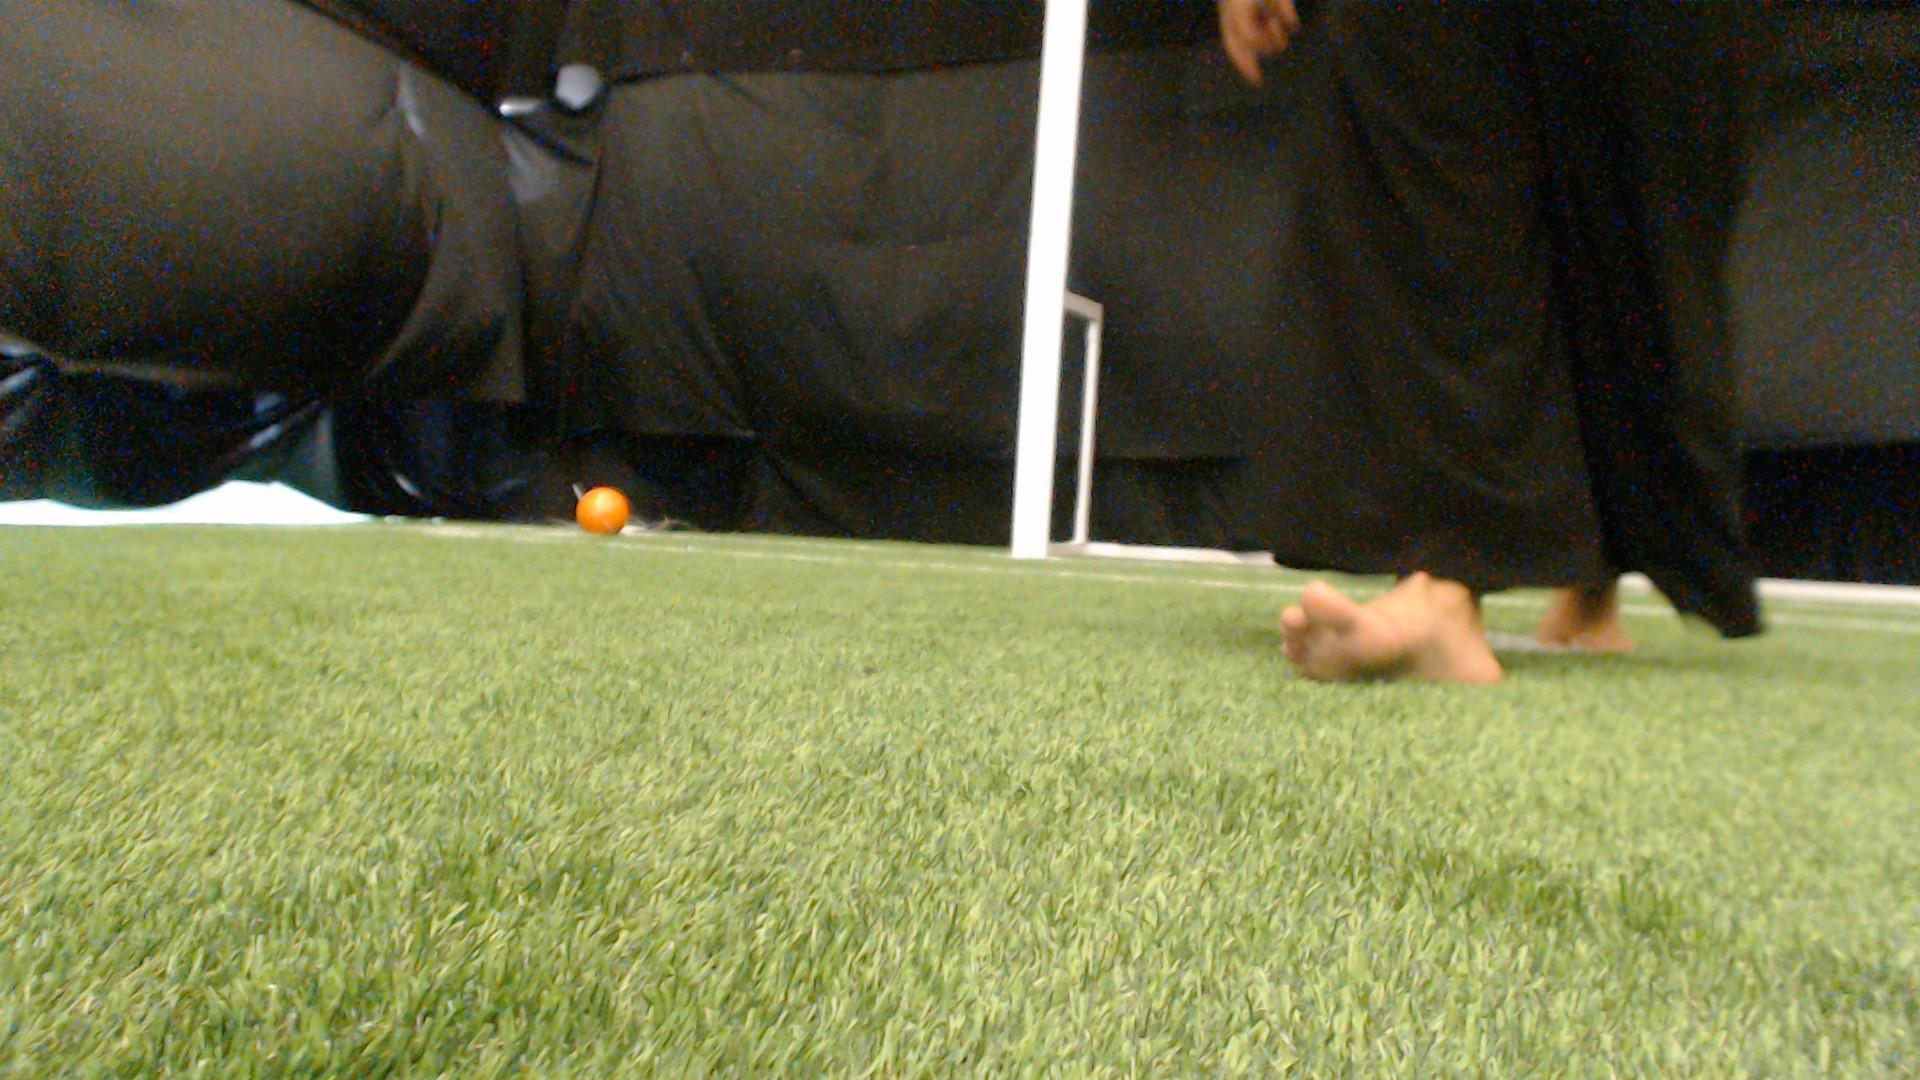bola: (564, 465, 647, 550)
